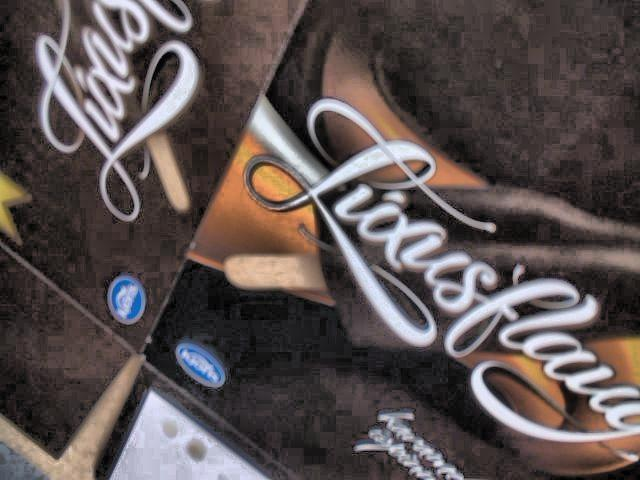Paper: (0, 1, 640, 480)
